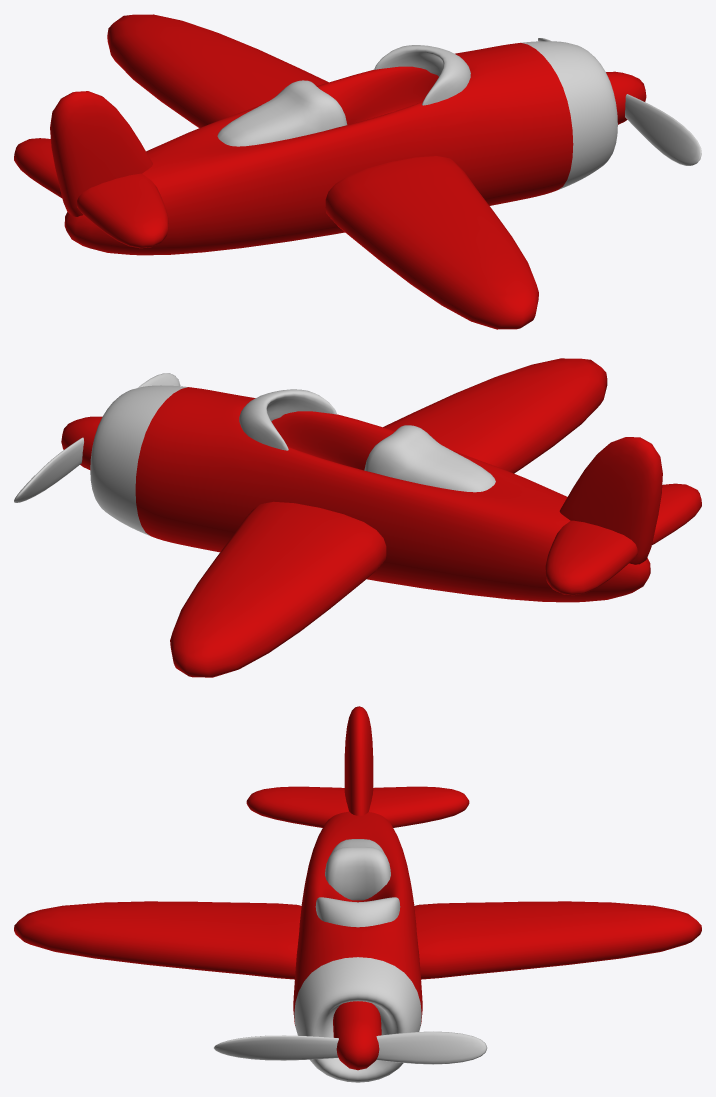
File: toyplane.obj
The picture shows the model from 3 angles, top to bottom: view 1: azimuth 30°, elevation 25°; view 2: azimuth 150°, elevation 25°; view 3: azimuth 270°, elevation 25°; orthographic projection. The views are drawn at different scales.
Visible parts, largest first — view 1: Cube_Cube.001, Cube.004_Cube.005, Cube.005_Cube.006; view 2: Cube_Cube.001, Cube.004_Cube.005, Cube.005_Cube.006; view 3: Cube_Cube.001, Cube.004_Cube.005, Cube.005_Cube.006.
Boxes of the visible parts, x1,y1,x2,y2 form: Cube_Cube.001: (14, 14, 701, 329); Cube.004_Cube.005: (217, 80, 347, 146); Cube.005_Cube.006: (374, 45, 470, 105); Cube_Cube.001: (14, 358, 701, 677); Cube.004_Cube.005: (364, 425, 495, 492); Cube.005_Cube.006: (239, 389, 336, 450); Cube_Cube.001: (14, 706, 701, 1082); Cube.004_Cube.005: (325, 839, 390, 900); Cube.005_Cube.006: (315, 897, 400, 927).
Bounding box in the file's own units: 24.12 × 8.02 × 28.57.
